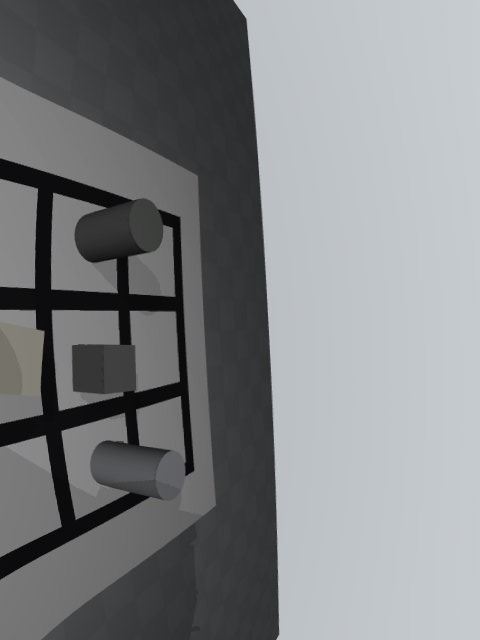can: (90, 440, 186, 501)
cube: (72, 344, 136, 394)
cylinder: (74, 199, 163, 263)
foam: (0, 322, 45, 397)
